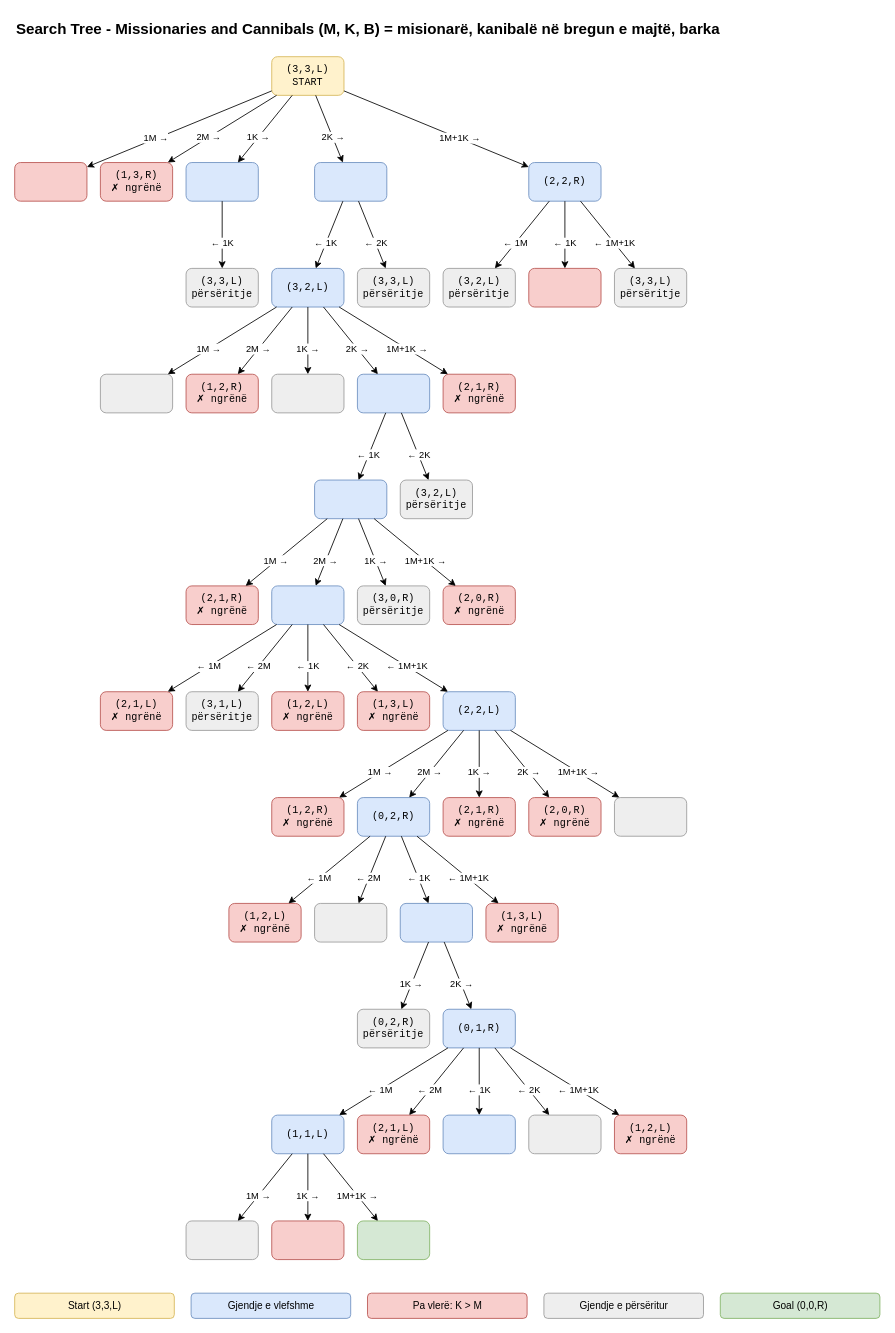
The diagram is 895 pixels wide and 1333 high, and some of its shapes have lost their labels. The shapes that lost their labels are listed below. From the top down, each one's box as (x1, y1, x2, y2) in pixels, then its label:
(14, 162, 87, 201): (2,3,R) ✗ ngrënë
(185, 162, 258, 201): (3,2,R)
(314, 162, 387, 201): (3,1,R)
(528, 268, 601, 307): (2,3,L) ✗ ngrënë
(100, 373, 173, 413): (2,2,R) përsëritje
(271, 373, 344, 413): (3,1,R) përsëritje
(357, 373, 430, 413): (3,0,R)
(314, 479, 387, 519): (3,1,L)
(271, 585, 344, 625): (1,1,R)
(614, 797, 687, 836): (1,1,R) përsëritje
(314, 903, 387, 942): (2,2,L) përsëritje
(399, 903, 472, 942): (0,3,L)
(442, 1114, 515, 1154): (0,2,L)
(528, 1114, 601, 1154): (0,3,L) përsëritje
(185, 1220, 258, 1260): (0,1,R) përsëritje
(271, 1220, 344, 1260): (1,0,R) ✗ ngrënë
(357, 1220, 430, 1260): (0,0,R) GOAL
